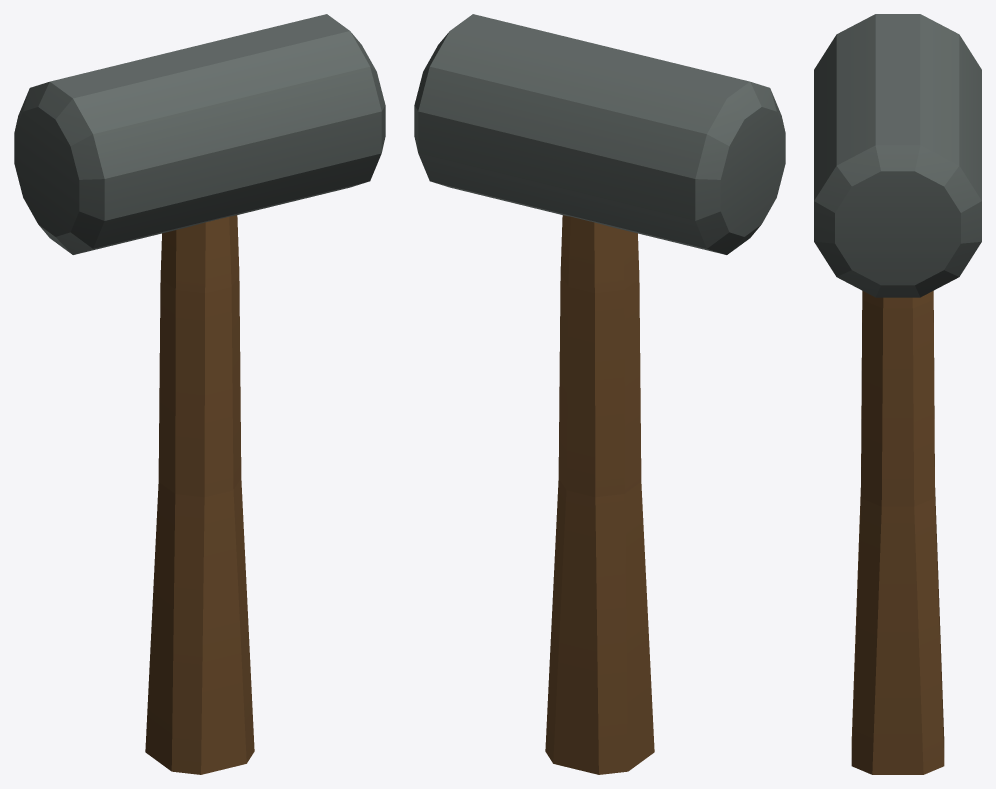
File: Tool_Hammer_06.obj
3 views of the same model, side by side, from view 1: azimuth 30°, elevation 25°; view 2: azimuth 150°, elevation 25°; view 3: azimuth 270°, elevation 25° (orthographic). The views are drawn at different scales.
Visible parts, largest first — view 1: Tool_Hammer_06; view 2: Tool_Hammer_06; view 3: Tool_Hammer_06.
Boxes of the visible parts, <box> form: Tool_Hammer_06: <box>14,14,385,774</box>; Tool_Hammer_06: <box>414,14,785,774</box>; Tool_Hammer_06: <box>814,14,981,774</box>.
Size of the model in its own units: 0.1428 by 0.3099 by 0.0698.
1 material, 1 textured.
